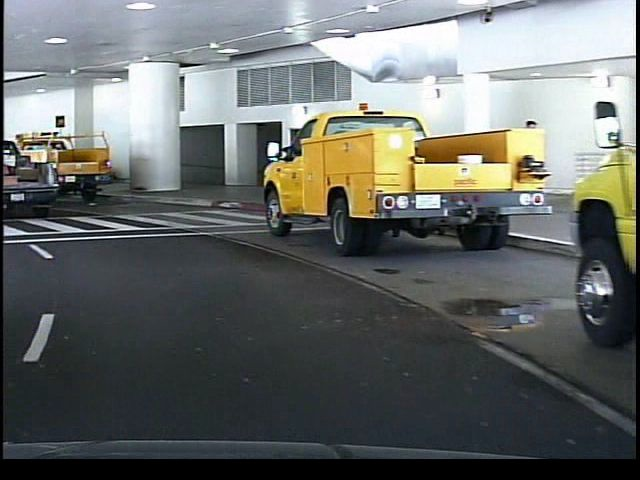person: (512, 112, 545, 218)
